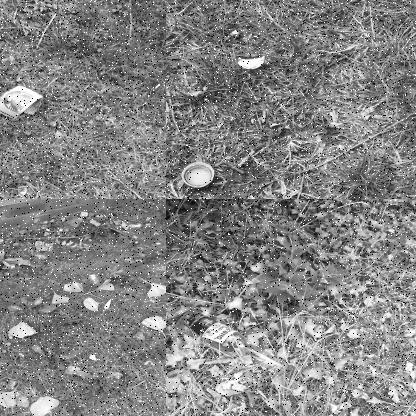cardboard: (0, 84, 49, 126)
glass: (176, 310, 294, 378)
plastic: (180, 161, 216, 194)
